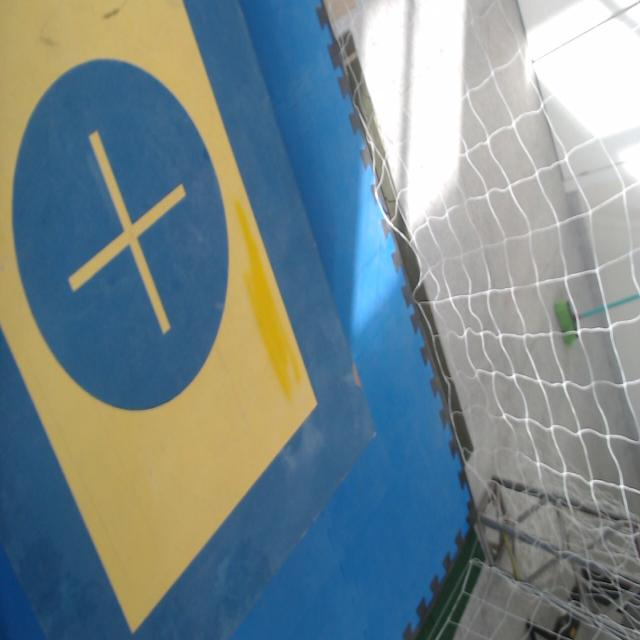base_inicio: (0, 0, 320, 634)
